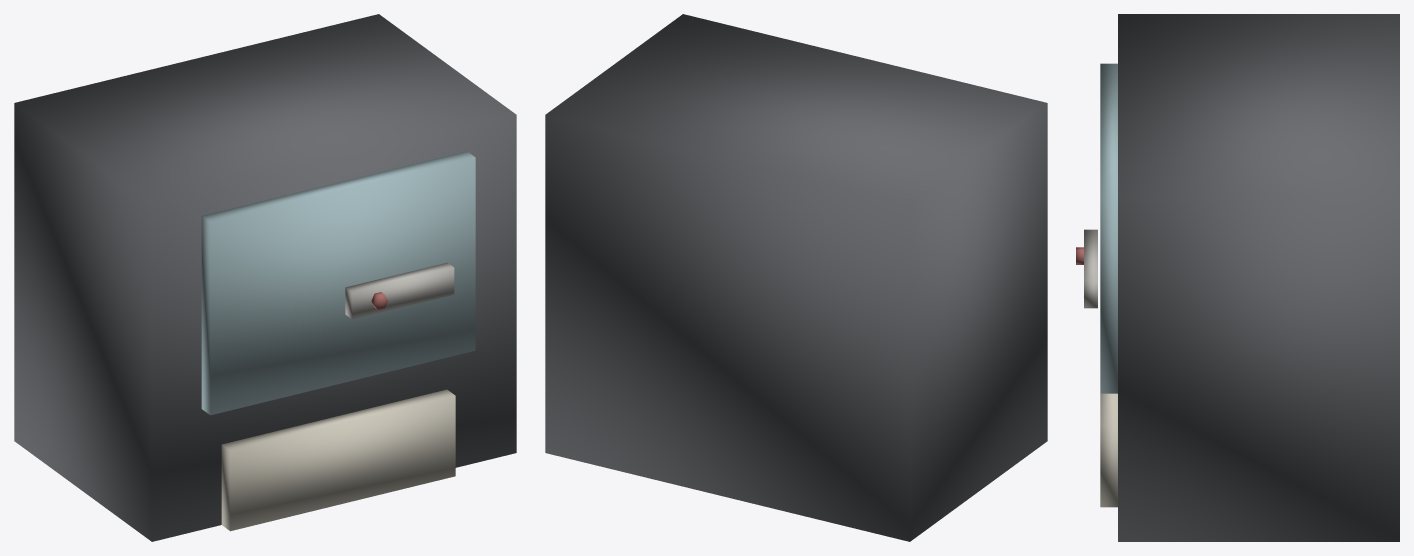
The model's file is television__tall.glb.
3 views of the same model, side by side, from view 1: azimuth 30°, elevation 25°; view 2: azimuth 150°, elevation 25°; view 3: azimuth 270°, elevation 25° (orthographic). The views are drawn at different scales.
Parts seen in each view (by area): view 1: world; view 2: world; view 3: world.
Part boxes in pixels (x1=…): world: x1=14, y1=14, x2=516, y2=541; world: x1=545, y1=14, x2=1047, y2=541; world: x1=1076, y1=14, x2=1399, y2=541.
Bounding box in the file's own units: 0.55 × 0.4872 × 0.4135.
